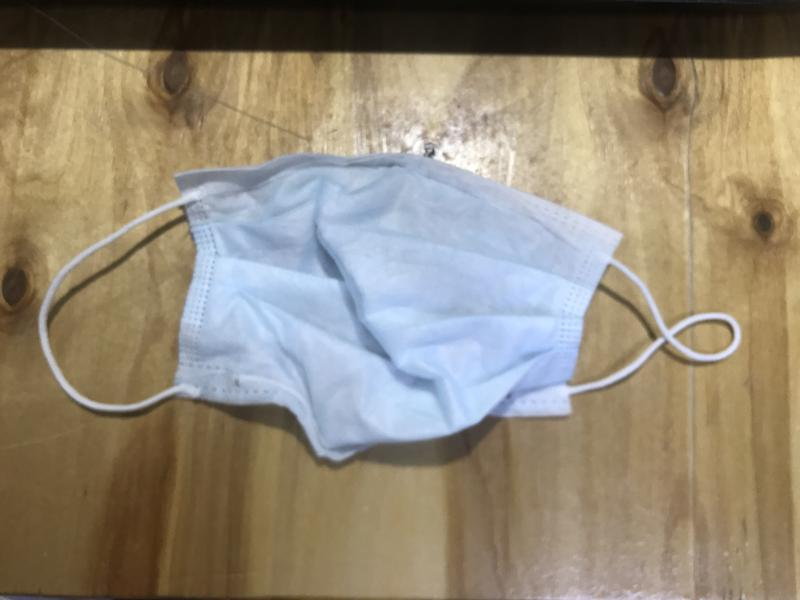medical_mask: (40, 153, 741, 460)
